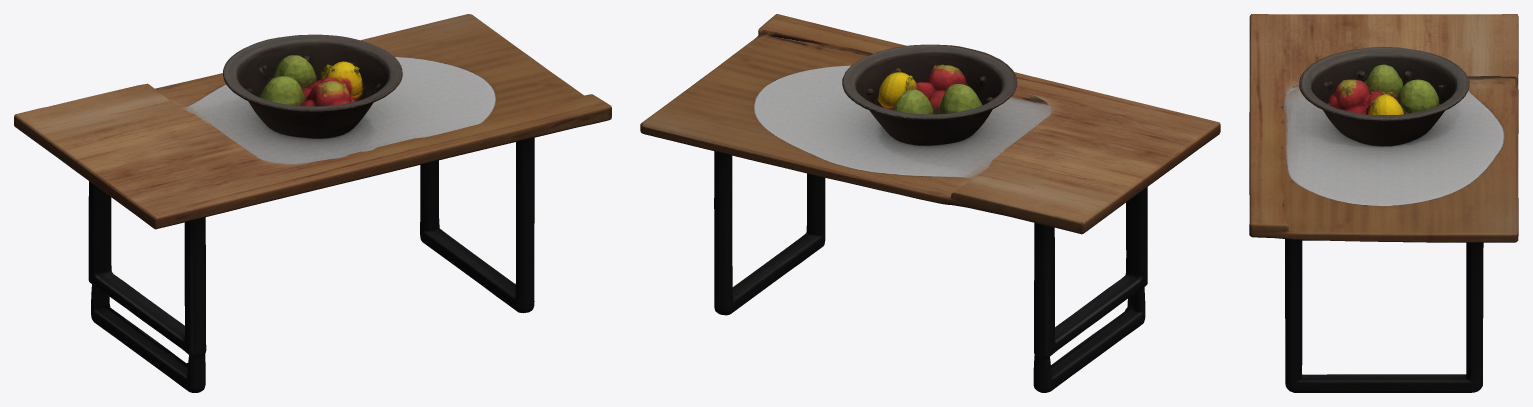
3 views of the same model, side by side, from view 1: azimuth 30°, elevation 25°; view 2: azimuth 150°, elevation 25°; view 3: azimuth 270°, elevation 25° (orthographic). The views are drawn at different scales.
Visible parts, largest first — view 1: world; view 2: world; view 3: world.
Boxes of the visible parts, left/top/right/bottom form: world: left=14, top=14, right=611, bottom=392; world: left=640, top=14, right=1220, bottom=392; world: left=1249, top=14, right=1518, bottom=392.
Size of the model in its own units: 1 by 0.5187 by 0.5385.
1 material, 1 textured.
